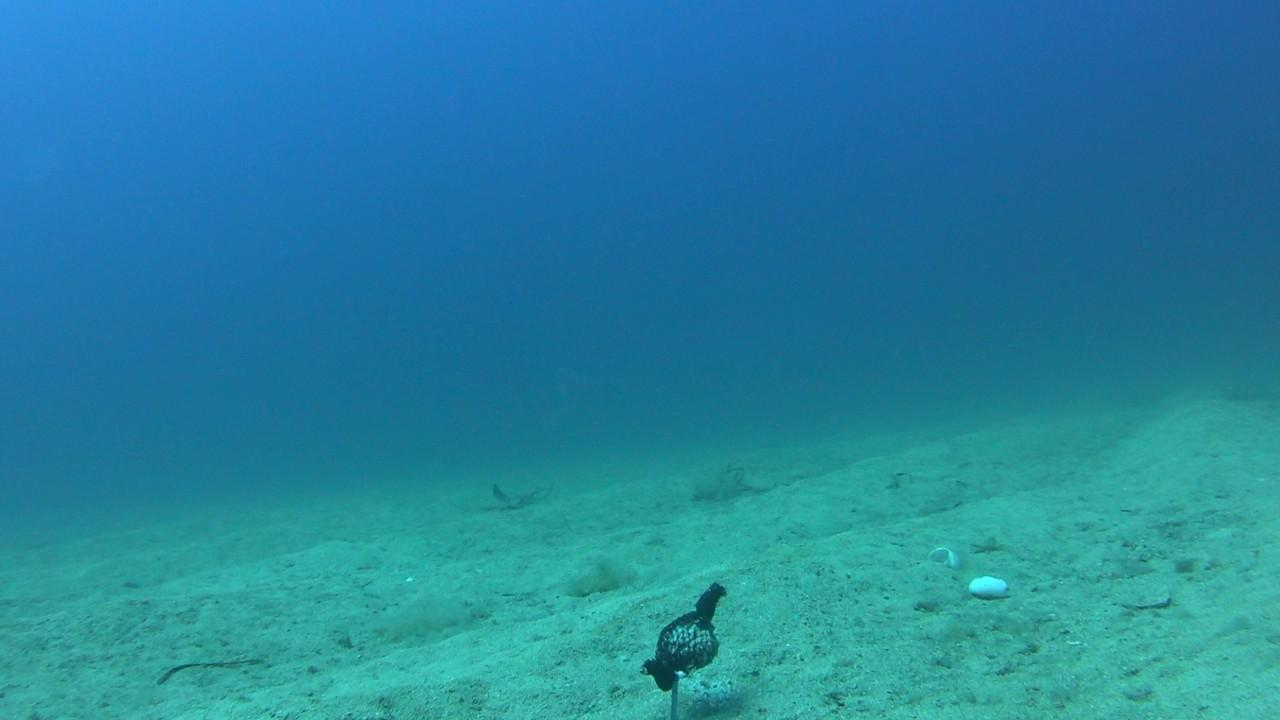myliobatis: (487, 465, 569, 516)
